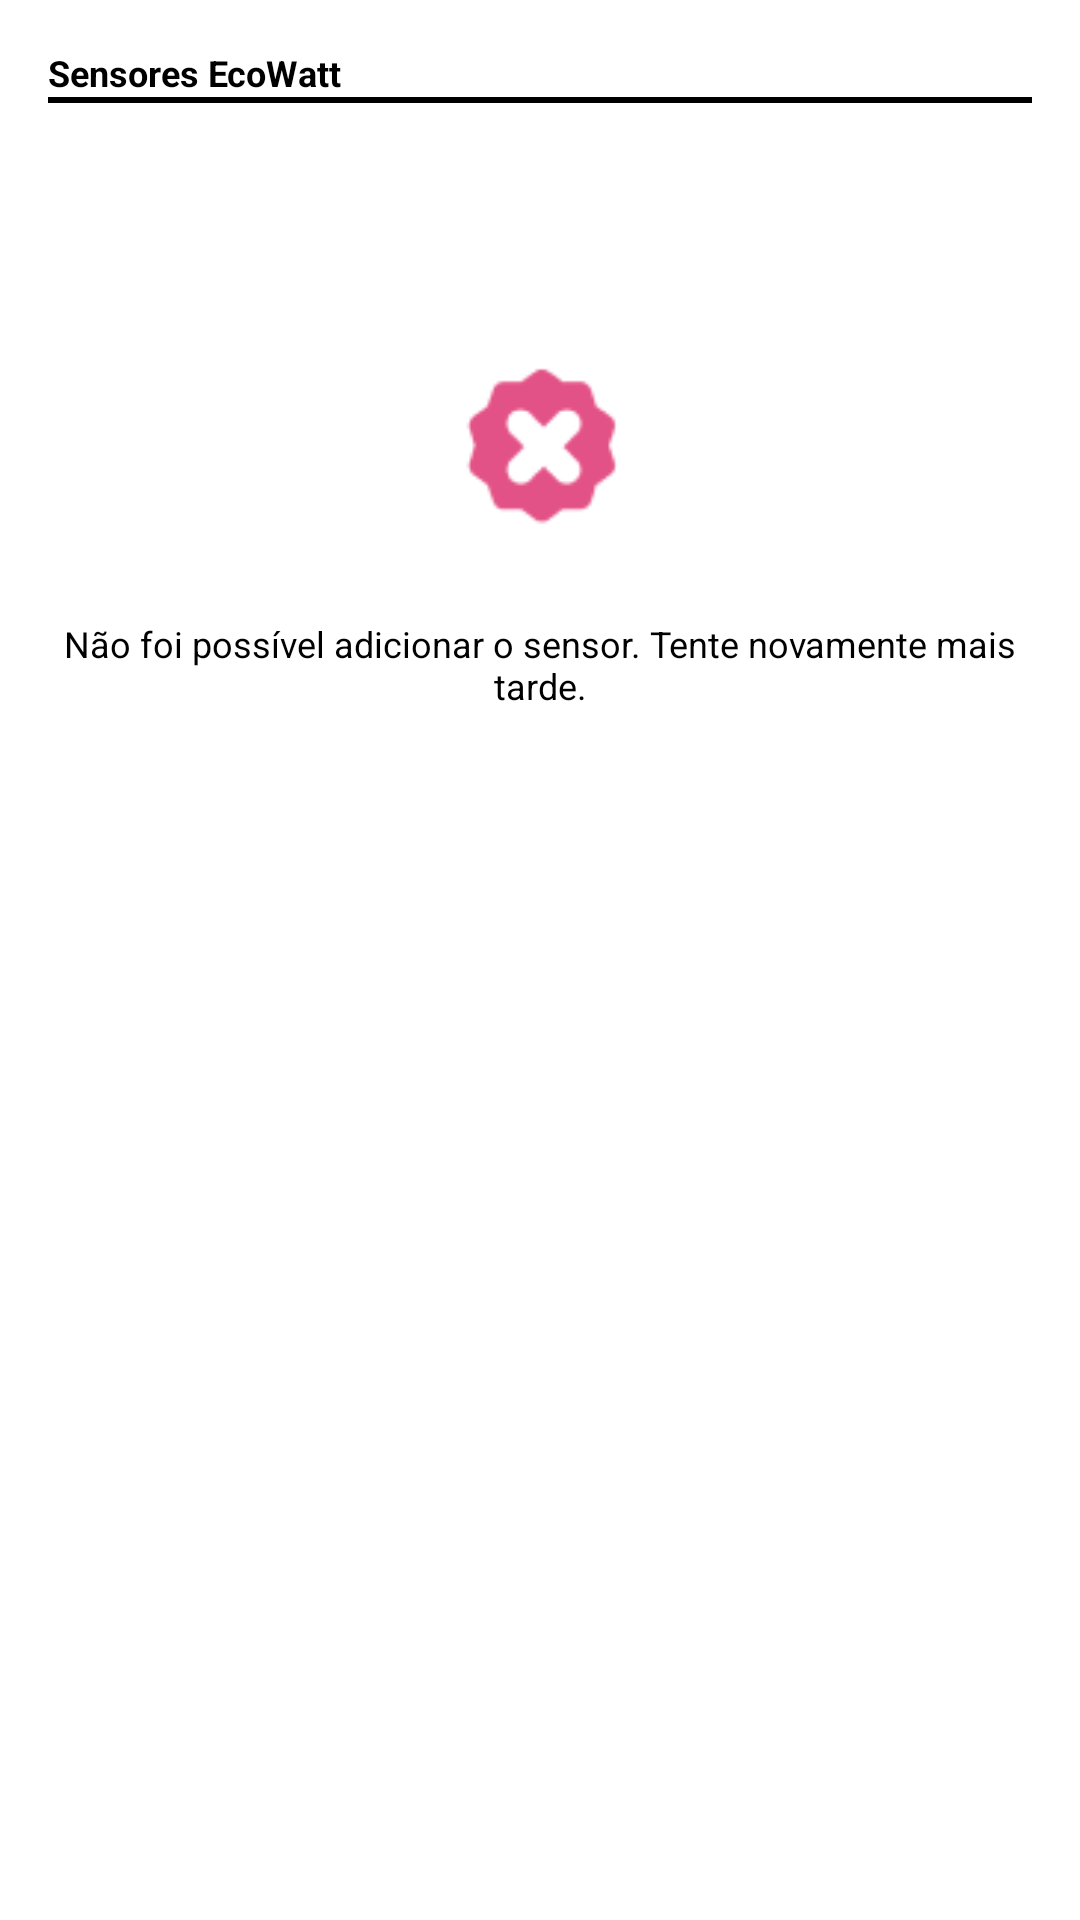

Screen size 1080x1920. Icon name, then its center in pixels as [x,y]:
failed: [541,446]
